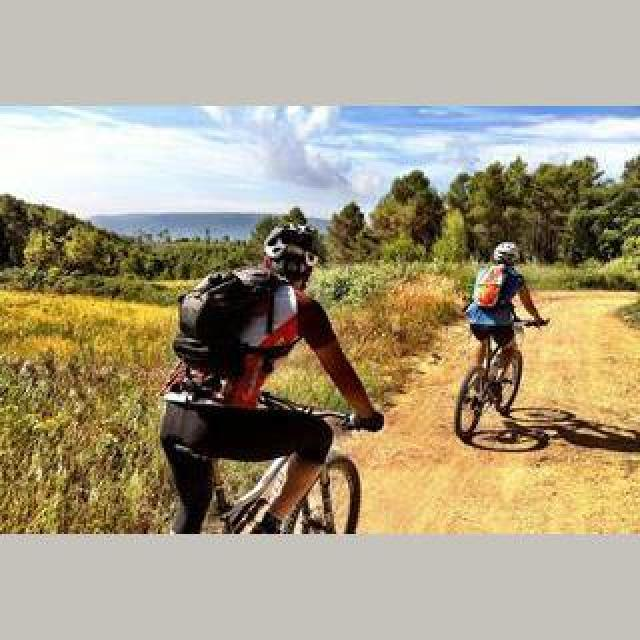MC-Bike: (158, 210, 380, 538), (464, 240, 548, 406)
Person: (163, 387, 363, 531), (454, 310, 548, 444)
